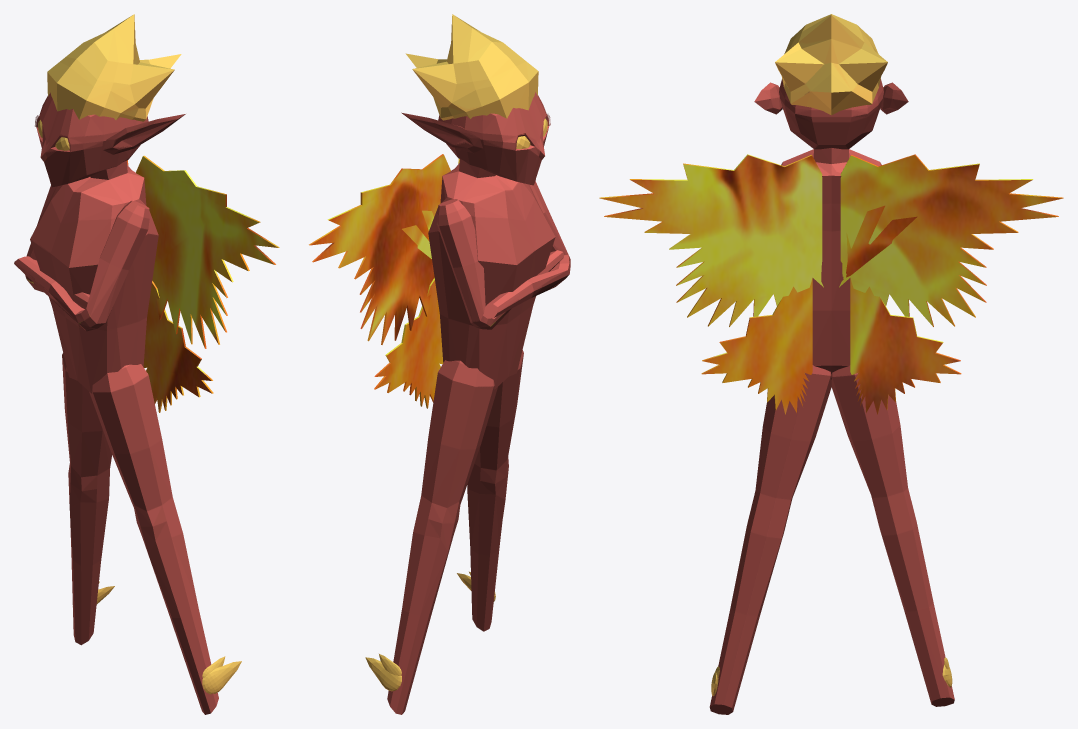
The model's file is GLIMMER_BASE_proto.obj.
The picture shows the model from 3 angles, left to right: view 1: azimuth 30°, elevation 25°; view 2: azimuth 150°, elevation 25°; view 3: azimuth 270°, elevation 25°; orthographic projection. The views are drawn at different scales.
Visible parts, largest first — view 1: Cube; view 2: Cube; view 3: Cube.
Part boxes in pixels (bbox=[...]): Cube: bbox=[14, 14, 279, 714]; Cube: bbox=[309, 14, 570, 714]; Cube: bbox=[599, 14, 1063, 714].
Bounding box in the file's own units: 1.4 × 6.12 × 3.72.
Materials: 1 (1 with a texture image).
